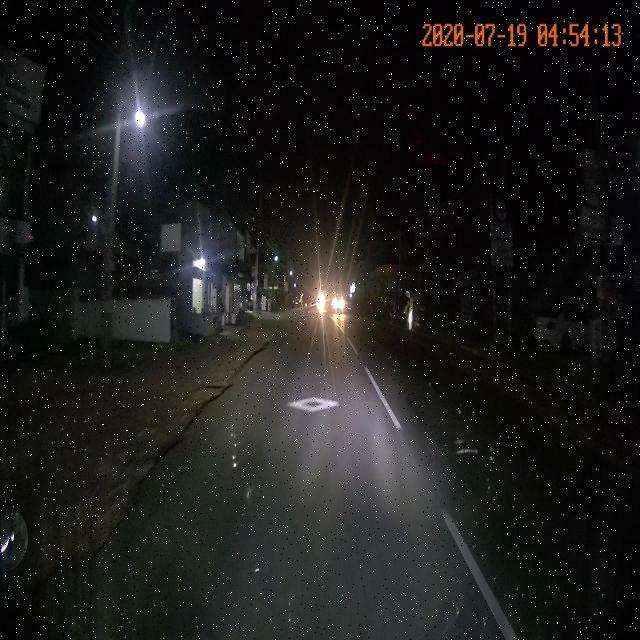diamond: (195, 376, 421, 439)
